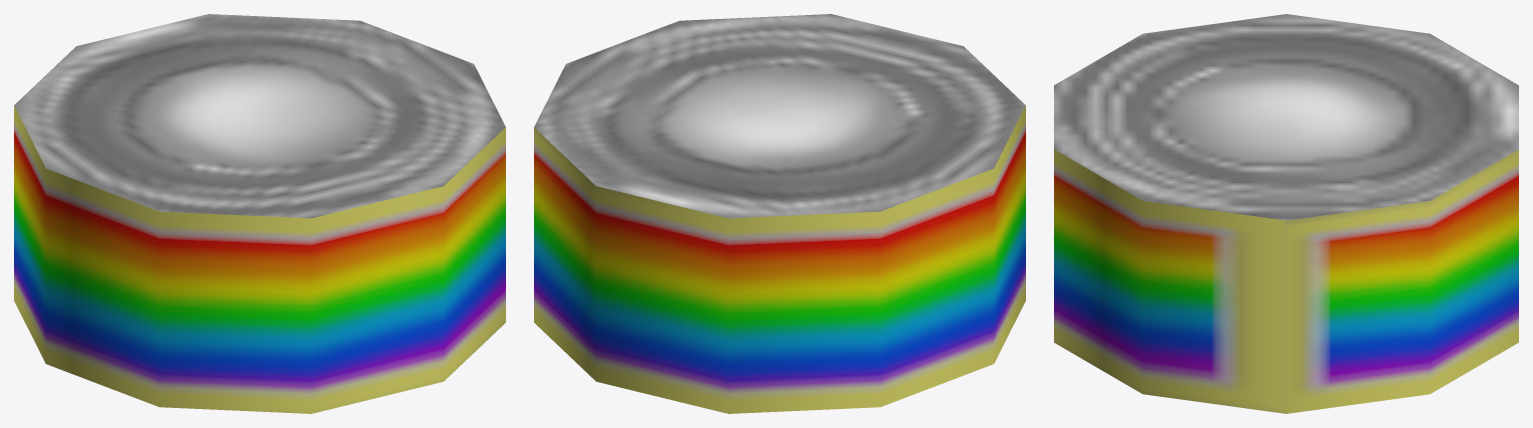
File: giftgoods084b.fbx
3 renders of one model, left to right at view 1: azimuth 30°, elevation 25°; view 2: azimuth 150°, elevation 25°; view 3: azimuth 270°, elevation 25°, orthographic.
Visible parts, largest first — view 1: giftgoods084b; view 2: giftgoods084b; view 3: giftgoods084b.
Part boxes in pixels (x1,y1,x2,y2): giftgoods084b: (14, 14, 505, 413); giftgoods084b: (534, 14, 1025, 413); giftgoods084b: (1054, 14, 1518, 413).
Size of the model in its own units: 0.1255 by 0.0548 by 0.1193.
